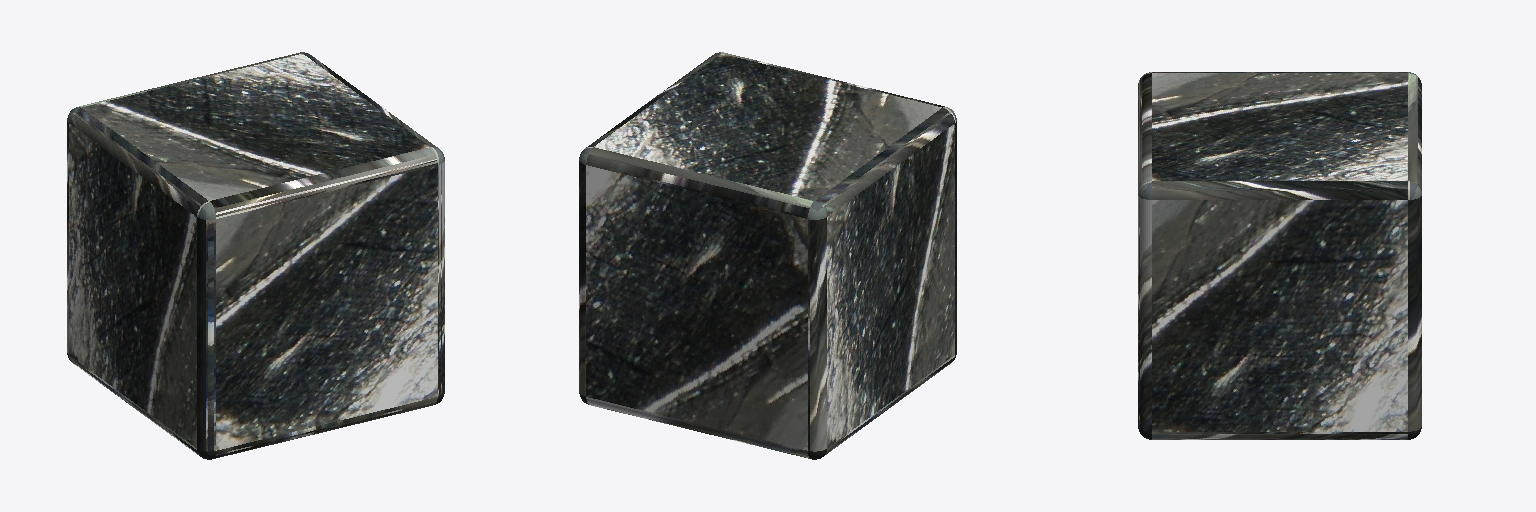
The picture shows the model from 3 angles: view 1: azimuth 30°, elevation 25°; view 2: azimuth 150°, elevation 25°; view 3: azimuth 270°, elevation 25°; orthographic projection.
Parts seen in each view (by area): view 1: Cube; view 2: Cube; view 3: Cube.
Boxes of the visible parts, box(x1,y1,x2,y2) form: Cube: box(67, 52, 444, 459); Cube: box(579, 52, 956, 459); Cube: box(1138, 72, 1421, 439).
Bounding box in the file's own units: 2 × 2 × 2.
1 materials, 1 textured.